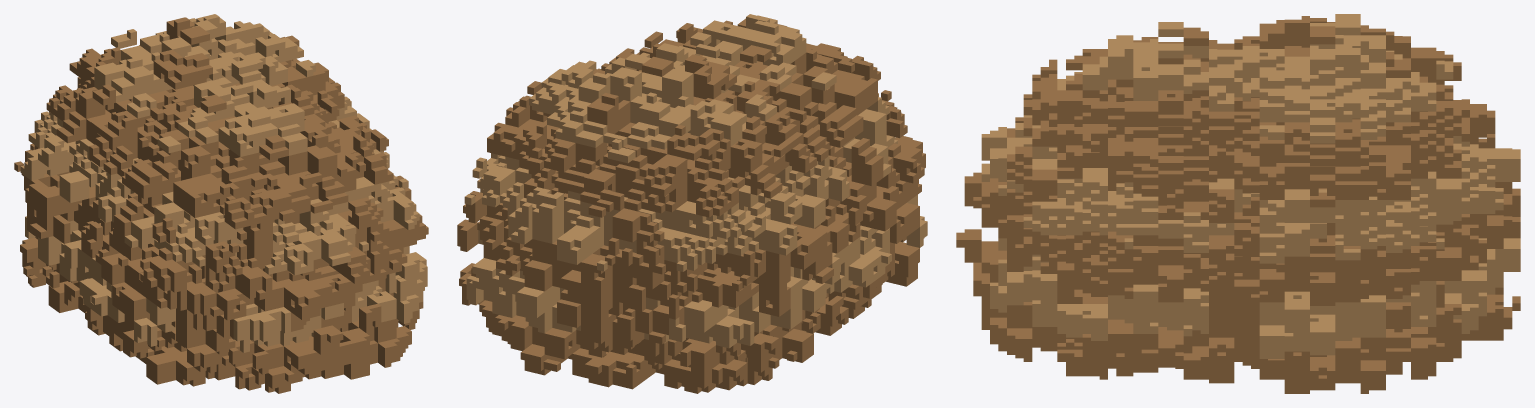
The model's file is rock_dunes_0.obj.
3 views of the same model, side by side, from view 1: azimuth 30°, elevation 25°; view 2: azimuth 150°, elevation 25°; view 3: azimuth 270°, elevation 25° (orthographic). The views are drawn at different scales.
Bounding box in the file's own units: 1.27 × 0.925 × 1.67.
1 material, 1 textured.
